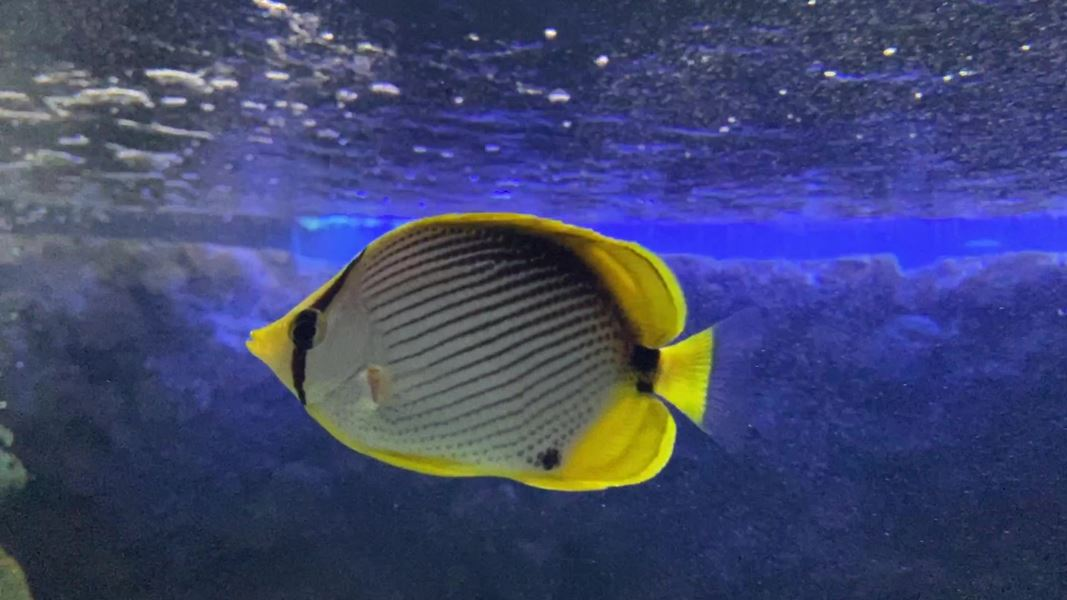Black-backed butterflyfish: (231, 198, 784, 506)
